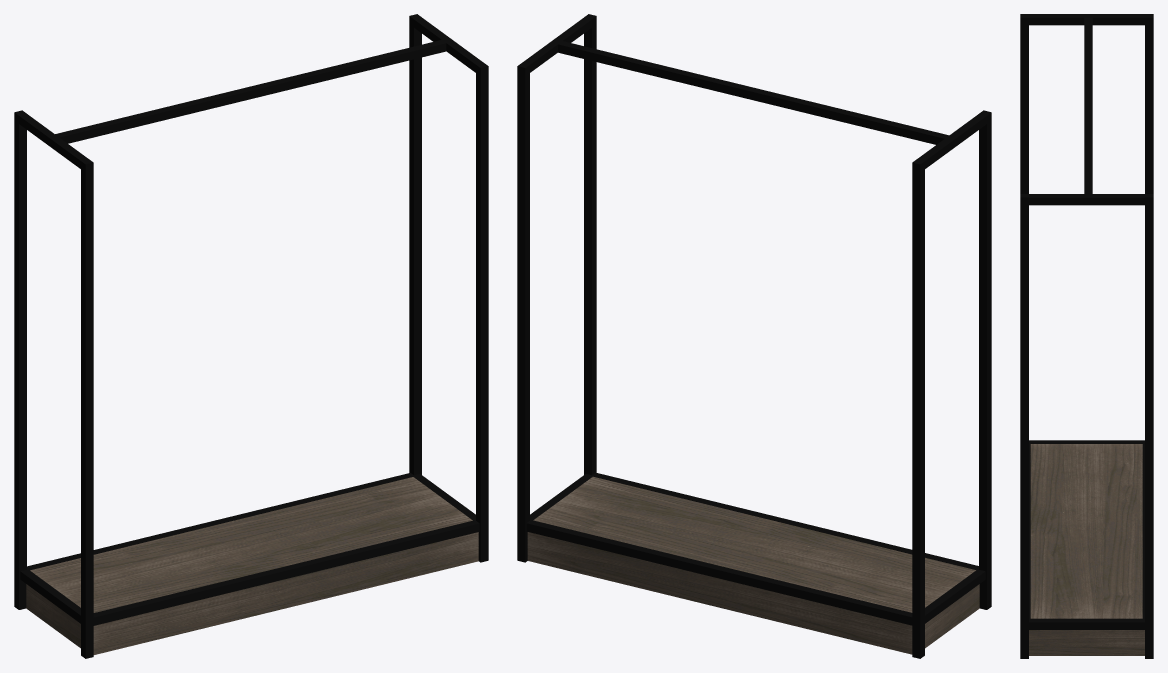
Rendered from Clothes rack 2.fbx.
3 renders of one model, left to right at view 1: azimuth 30°, elevation 25°; view 2: azimuth 150°, elevation 25°; view 3: azimuth 270°, elevation 25°, orthographic. The views are drawn at different scales.
Parts seen in each view (by area): view 1: Clothes rack 2; view 2: Clothes rack 2; view 3: Clothes rack 2.
Boxes of the visible parts, x1=… form: Clothes rack 2: x1=14, y1=14, x2=488, y2=658; Clothes rack 2: x1=517, y1=14, x2=991, y2=658; Clothes rack 2: x1=1020, y1=14, x2=1153, y2=658.
Bounding box in the file's own units: 132 × 155 × 40.39.
Materials: 2 (1 with a texture image).
